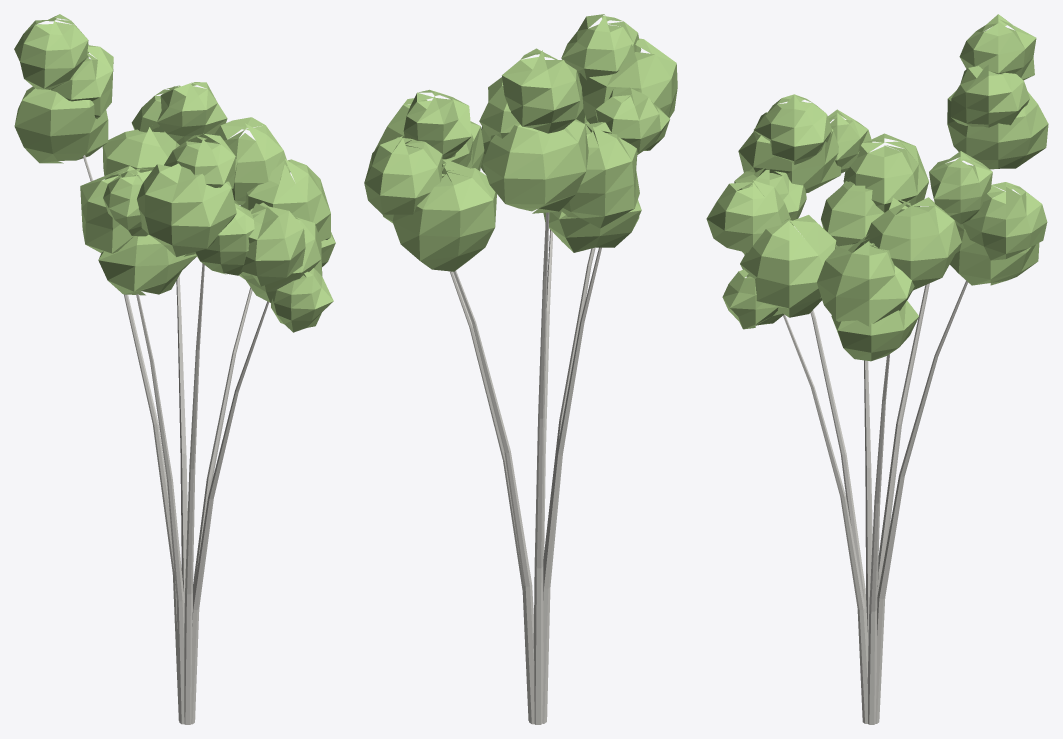
File: aspen_group.glb
3 renders of one model, left to right at view 1: azimuth 30°, elevation 25°; view 2: azimuth 150°, elevation 25°; view 3: azimuth 270°, elevation 25°, orthographic. The views are drawn at different scales.
Visible parts, largest first — view 1: aspen-clone-group; view 2: aspen-clone-group; view 3: aspen-clone-group.
Boxes of the visible parts, x1=… form: aspen-clone-group: x1=14, y1=14, x2=335, y2=724; aspen-clone-group: x1=364, y1=14, x2=677, y2=724; aspen-clone-group: x1=706, y1=14, x2=1048, y2=724.
Bounding box in the file's own units: 5.25 × 13.52 × 6.26.
